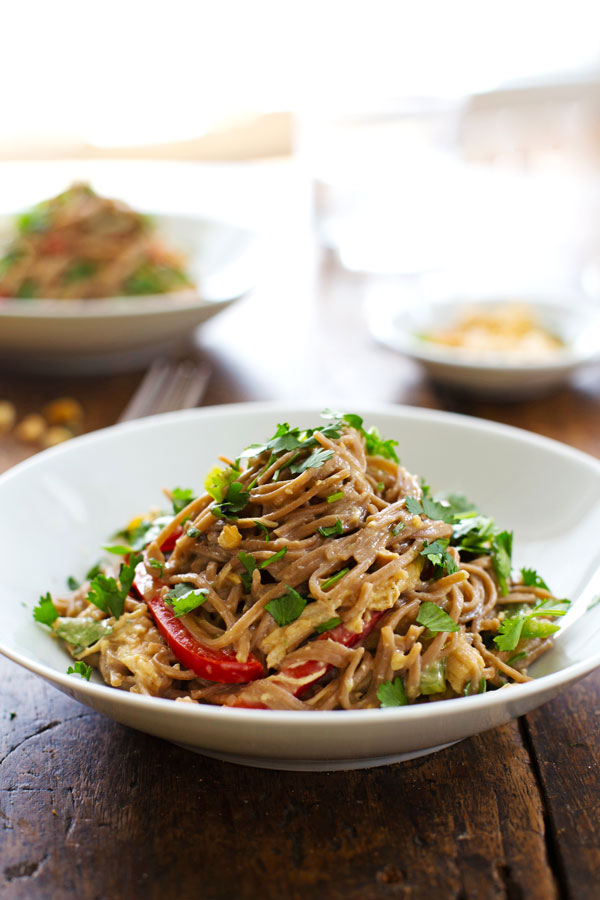Soba: (61, 423, 594, 714)
